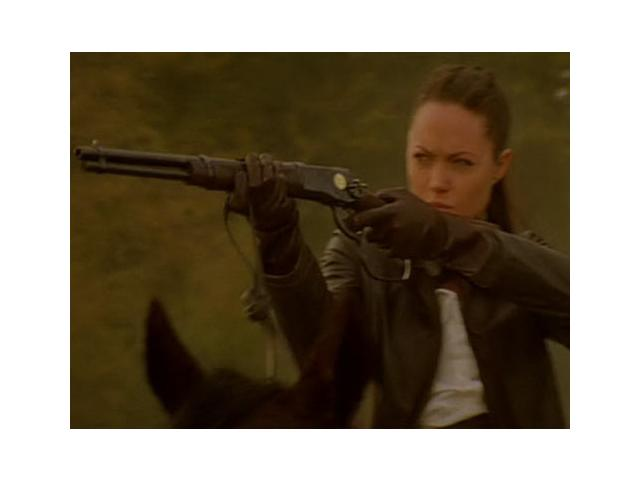rifle: (73, 139, 506, 291)
